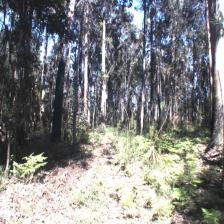trunktrack_idkeyframe: (51, 63, 66, 138), (72, 71, 78, 141)
